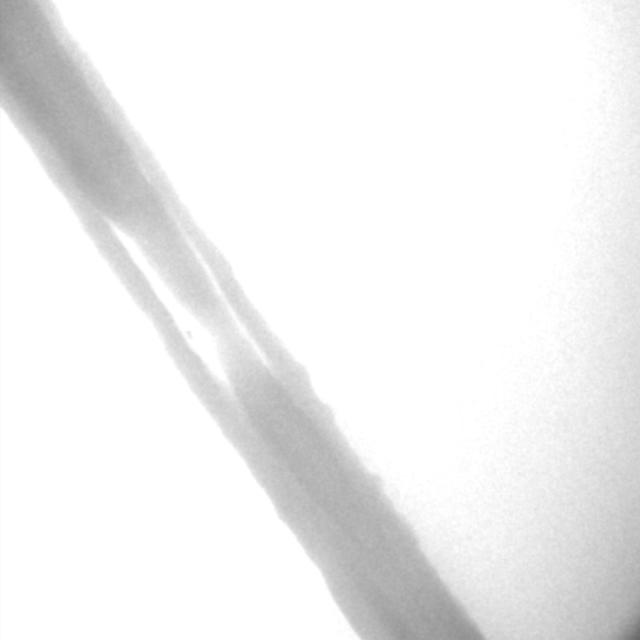unfused: (104, 216, 277, 394)
